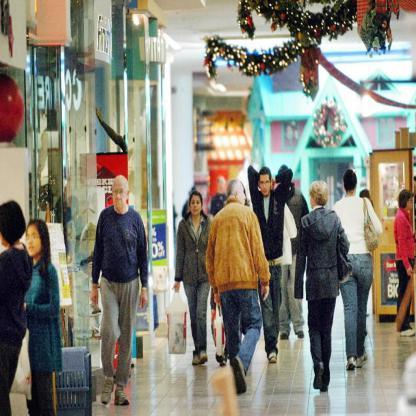face: (27, 225, 43, 256), (113, 181, 128, 209), (261, 174, 271, 196), (192, 195, 202, 216), (239, 183, 247, 208), (68, 201, 74, 219), (310, 194, 317, 208), (219, 183, 226, 194), (409, 197, 414, 211)
